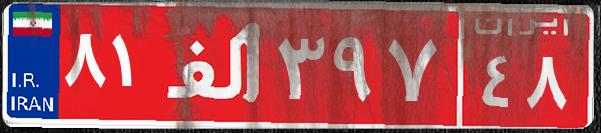1: (110, 28, 158, 105)
3: (273, 28, 330, 110)
4: (475, 38, 525, 113)
7: (385, 28, 445, 110)
8: (57, 26, 110, 107), (525, 38, 570, 115)
9: (330, 28, 385, 110)
الف: (158, 15, 273, 115)
